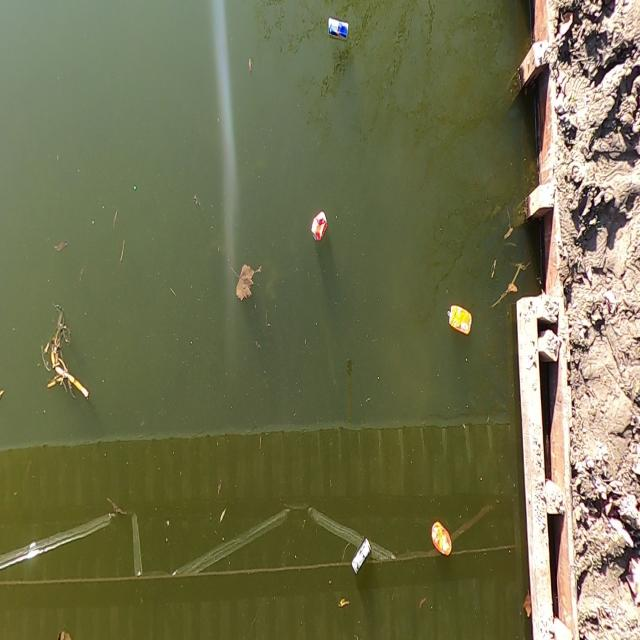Non plastique: (343, 534, 377, 588), (428, 515, 458, 567), (445, 301, 479, 346), (323, 13, 352, 46), (311, 210, 332, 246)
